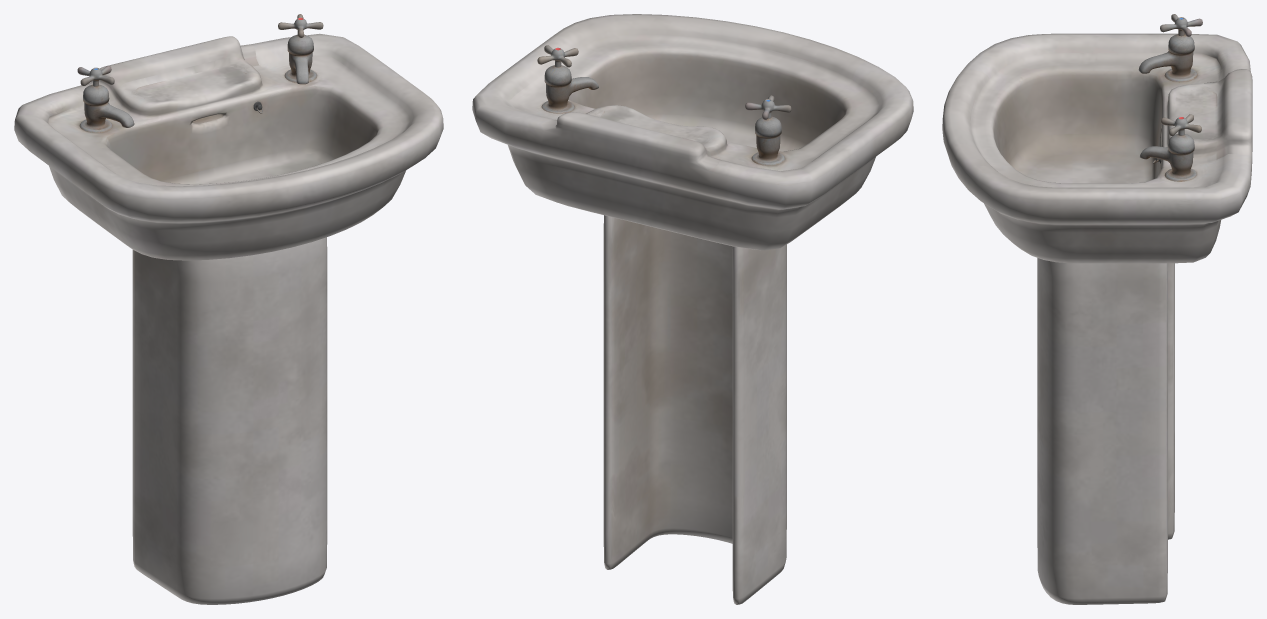
File: sink.glb
The picture shows the model from 3 angles, left to right: view 1: azimuth 30°, elevation 25°; view 2: azimuth 150°, elevation 25°; view 3: azimuth 270°, elevation 25°; orthographic projection. The views are drawn at different scales.
Visible parts, largest first — view 1: Sink; view 2: Sink; view 3: Sink.
Boxes of the visible parts, x1,y1,x2,y2 form: Sink: [14, 14, 443, 604]; Sink: [472, 14, 913, 604]; Sink: [942, 14, 1252, 604].
Size of the model in its own units: 0.7464 by 1.07 by 0.5989.
1 material, 1 textured.
